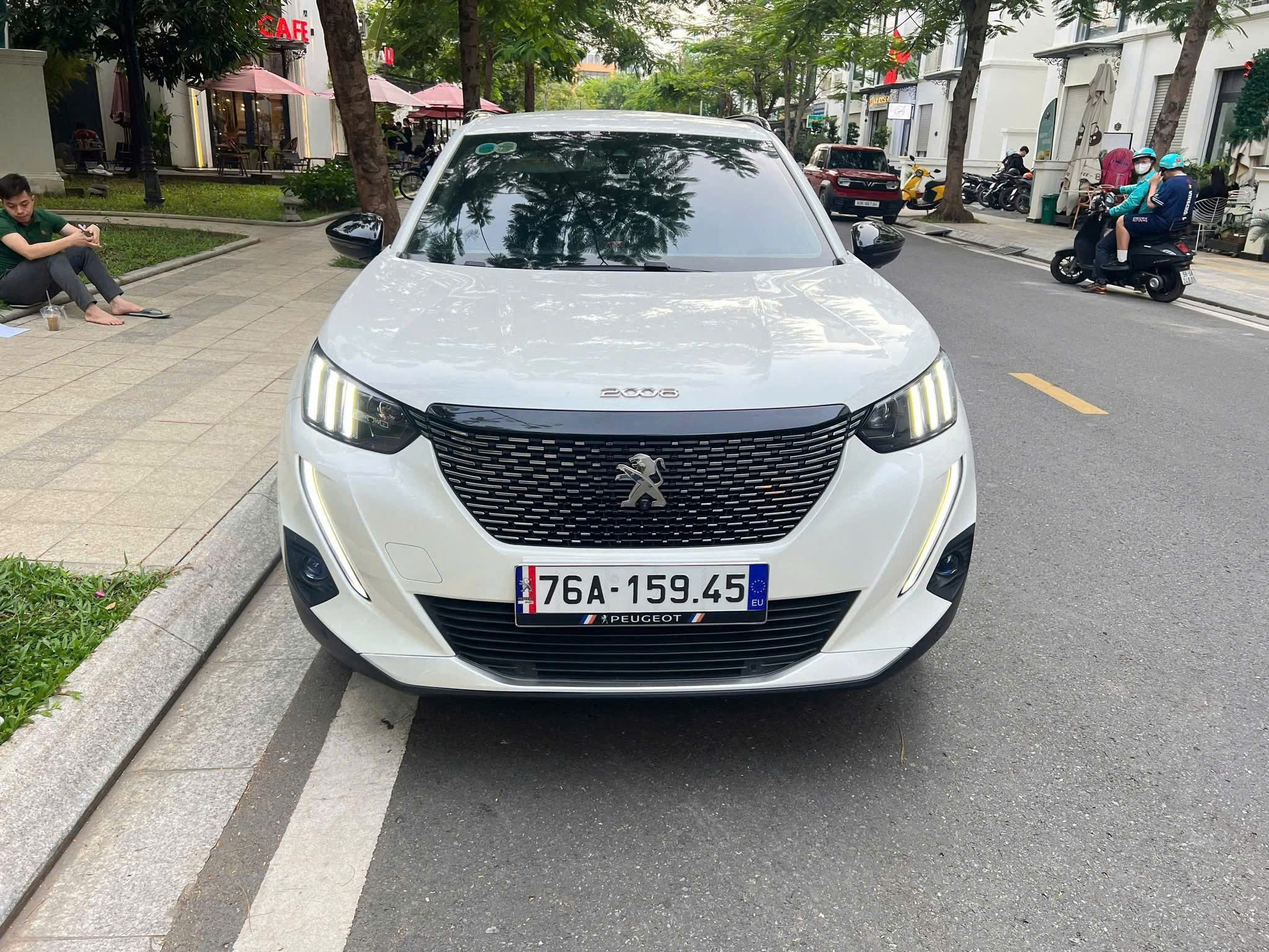Bien-so: (535, 566, 750, 619)
